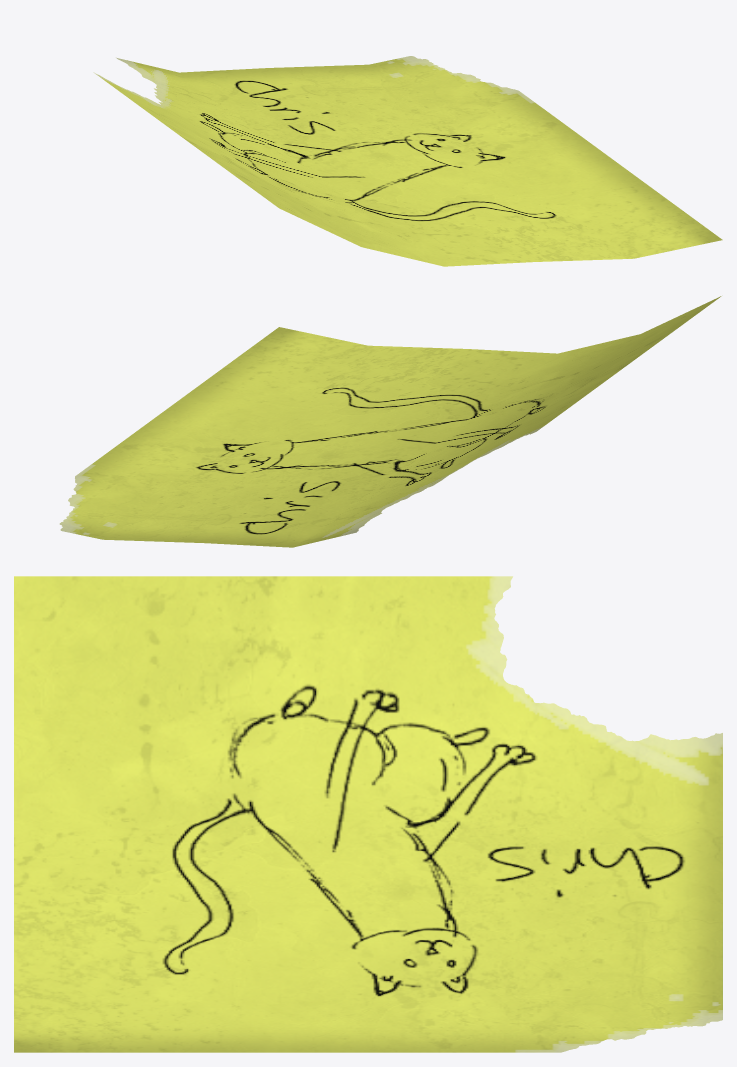
File: SM_PostItNote_04.fbx
3 renders of one model, top to bottom at view 1: azimuth 30°, elevation 25°; view 2: azimuth 150°, elevation 25°; view 3: azimuth 270°, elevation 25°, orthographic. The views are drawn at different scales.
Parts seen in each view (by area): view 1: SM_PostItNote_04_LOD0; view 2: SM_PostItNote_04_LOD0; view 3: SM_PostItNote_04_LOD0.
Part boxes in pixels (bbox=[...]): SM_PostItNote_04_LOD0: bbox=[93, 56, 722, 266]; SM_PostItNote_04_LOD0: bbox=[59, 296, 721, 547]; SM_PostItNote_04_LOD0: bbox=[14, 576, 722, 1052].
Bounding box in the file's own units: 11.95 × 12.37 × 3.6.
Materials: 1 (1 with a texture image).
